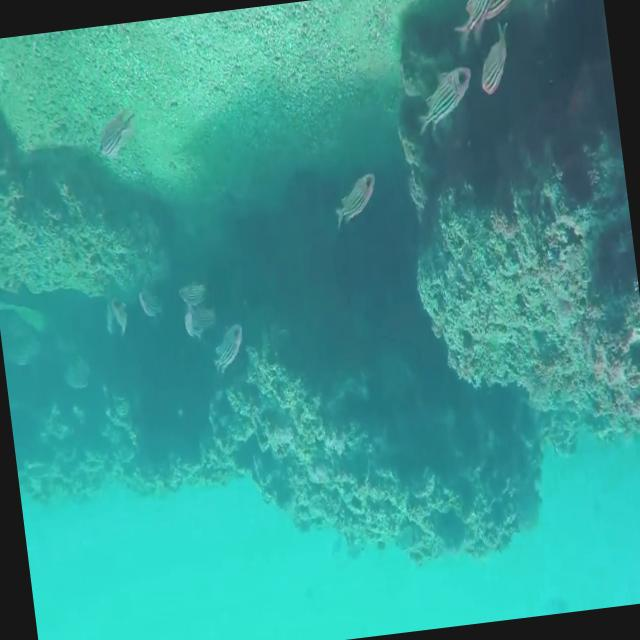Asker Baligi: (406, 57, 488, 141), (208, 302, 254, 372), (328, 170, 379, 230)
